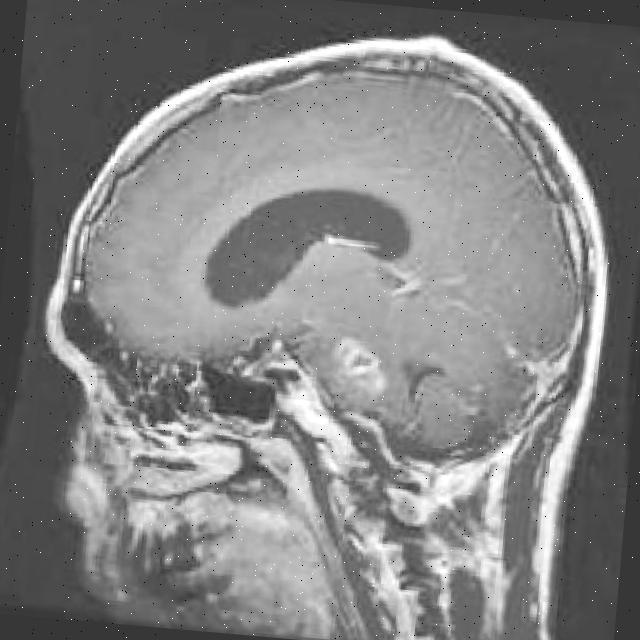EMCI: (214, 192, 433, 334)
